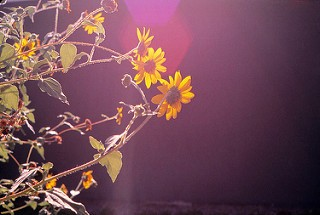flower: (149, 70, 196, 122), (127, 45, 169, 89)
